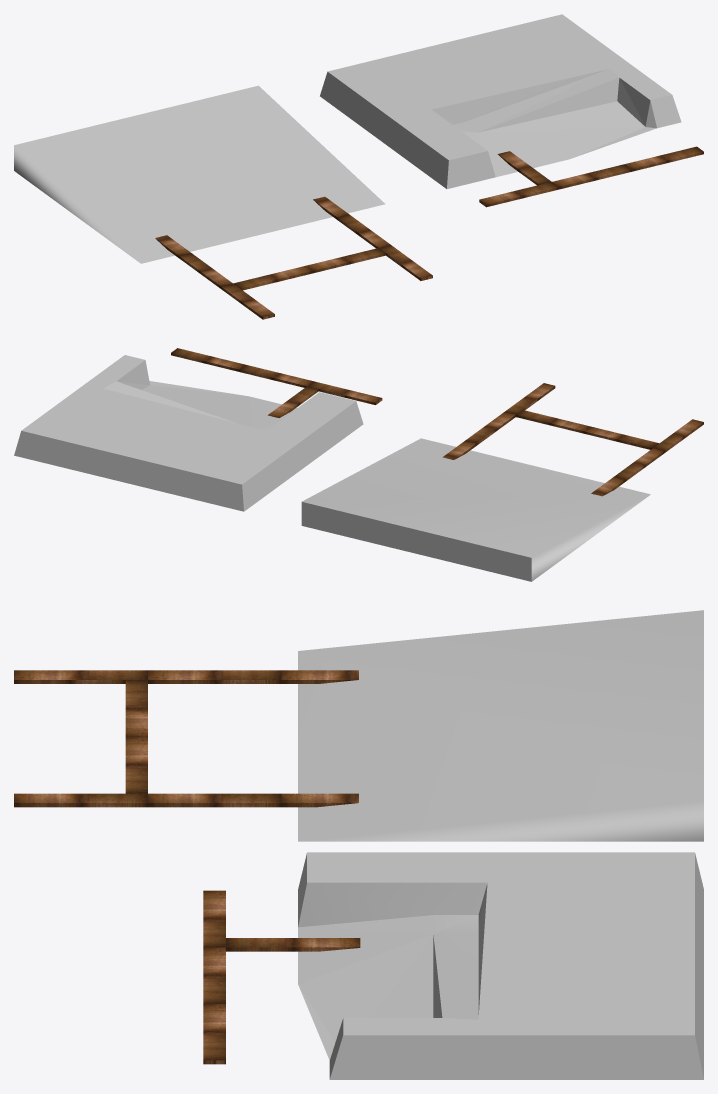
The model's file is islands.fbx.
3 renders of one model, top to bottom at view 1: azimuth 30°, elevation 25°; view 2: azimuth 150°, elevation 25°; view 3: azimuth 270°, elevation 25°, orthographic. The views are drawn at different scales.
Visible parts, largest first — view 1: island2, island1, pCube4, brygga1; view 2: island1, island2, pCube4, brygga1; view 3: island1, island2, pCube4, brygga1.
Boxes of the visible parts, x1,y1,x2,y2 form: island2: [14, 85, 385, 263]; island1: [320, 14, 681, 188]; pCube4: [155, 196, 432, 319]; brygga1: [479, 146, 703, 207]; island1: [14, 355, 363, 511]; island2: [301, 438, 650, 581]; pCube4: [442, 383, 703, 496]; brygga1: [171, 348, 382, 417]; island1: [298, 852, 703, 1079]; island2: [298, 610, 703, 841]; pCube4: [14, 670, 358, 807]; brygga1: [203, 890, 360, 1064].
Size of the model in its own units: 225 by 10 by 153.
